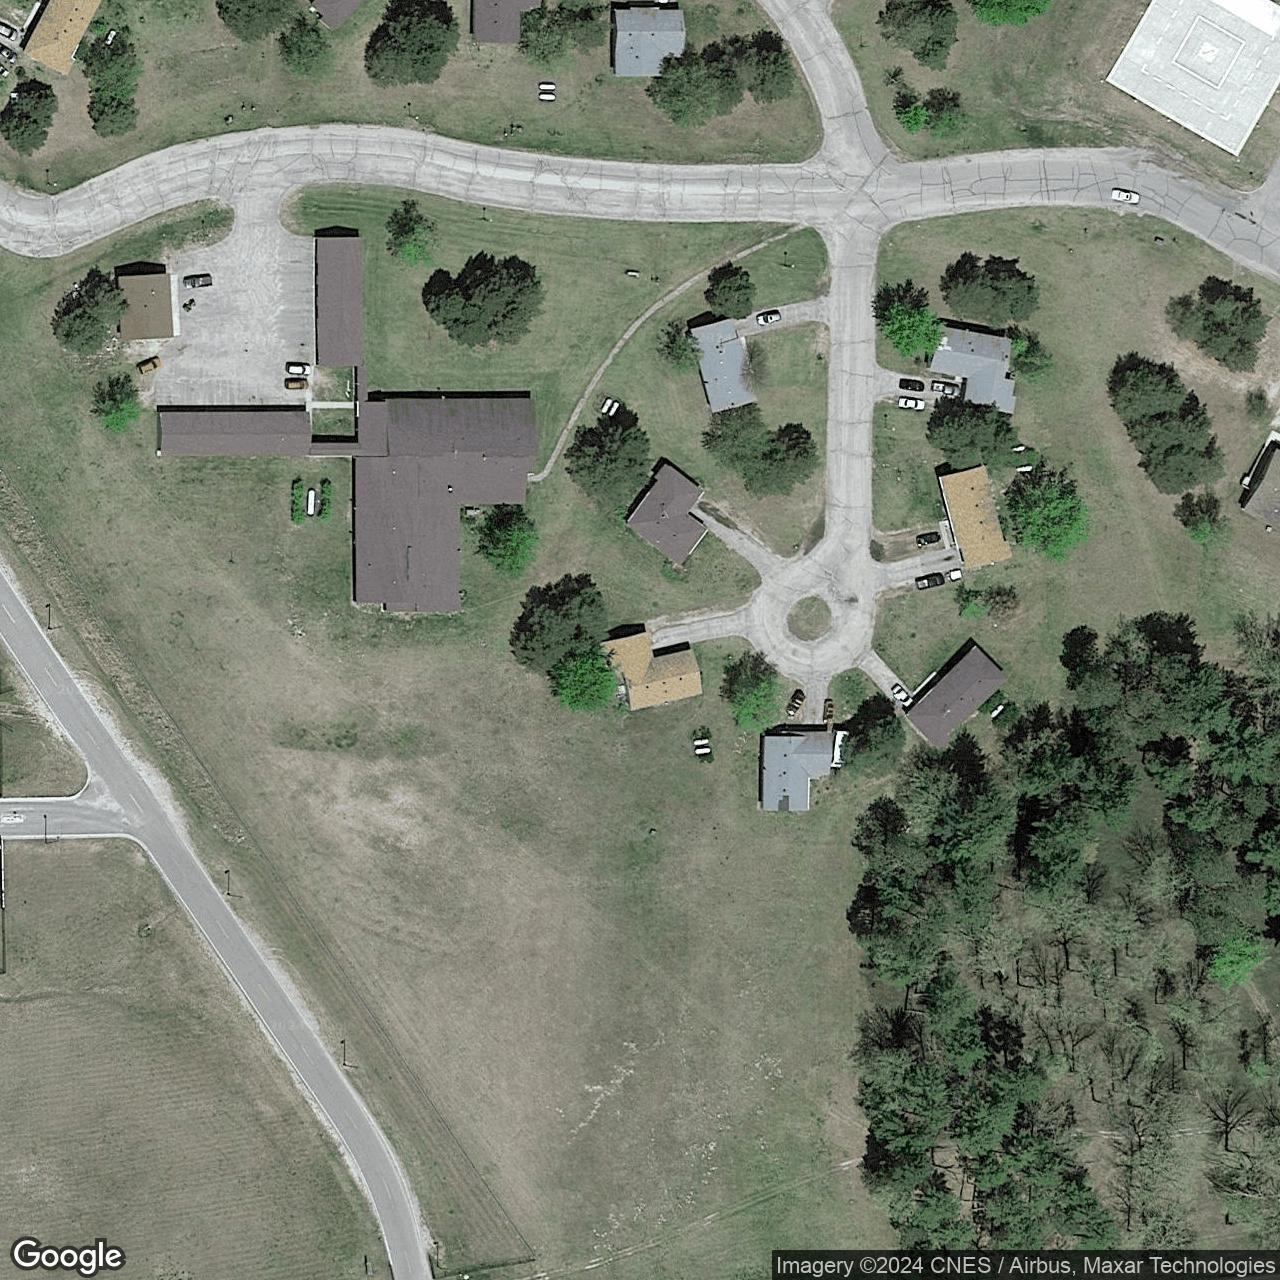Garage: (116, 272, 175, 342)
House: (905, 644, 1008, 750), (624, 462, 709, 567), (595, 631, 703, 713), (937, 463, 1014, 571), (926, 325, 1017, 415), (689, 318, 760, 415), (22, 0, 102, 77), (761, 729, 836, 811), (613, 6, 688, 79), (1240, 445, 1280, 533), (472, 0, 544, 43), (308, 1, 362, 33)
Other: (157, 236, 539, 612)
Propane: (101, 26, 120, 48), (988, 702, 1007, 721), (599, 395, 614, 416), (606, 399, 621, 418), (306, 486, 315, 518), (694, 745, 713, 757), (538, 81, 558, 91), (537, 91, 557, 102), (1014, 463, 1033, 472), (1009, 443, 1026, 454), (693, 737, 709, 747)
